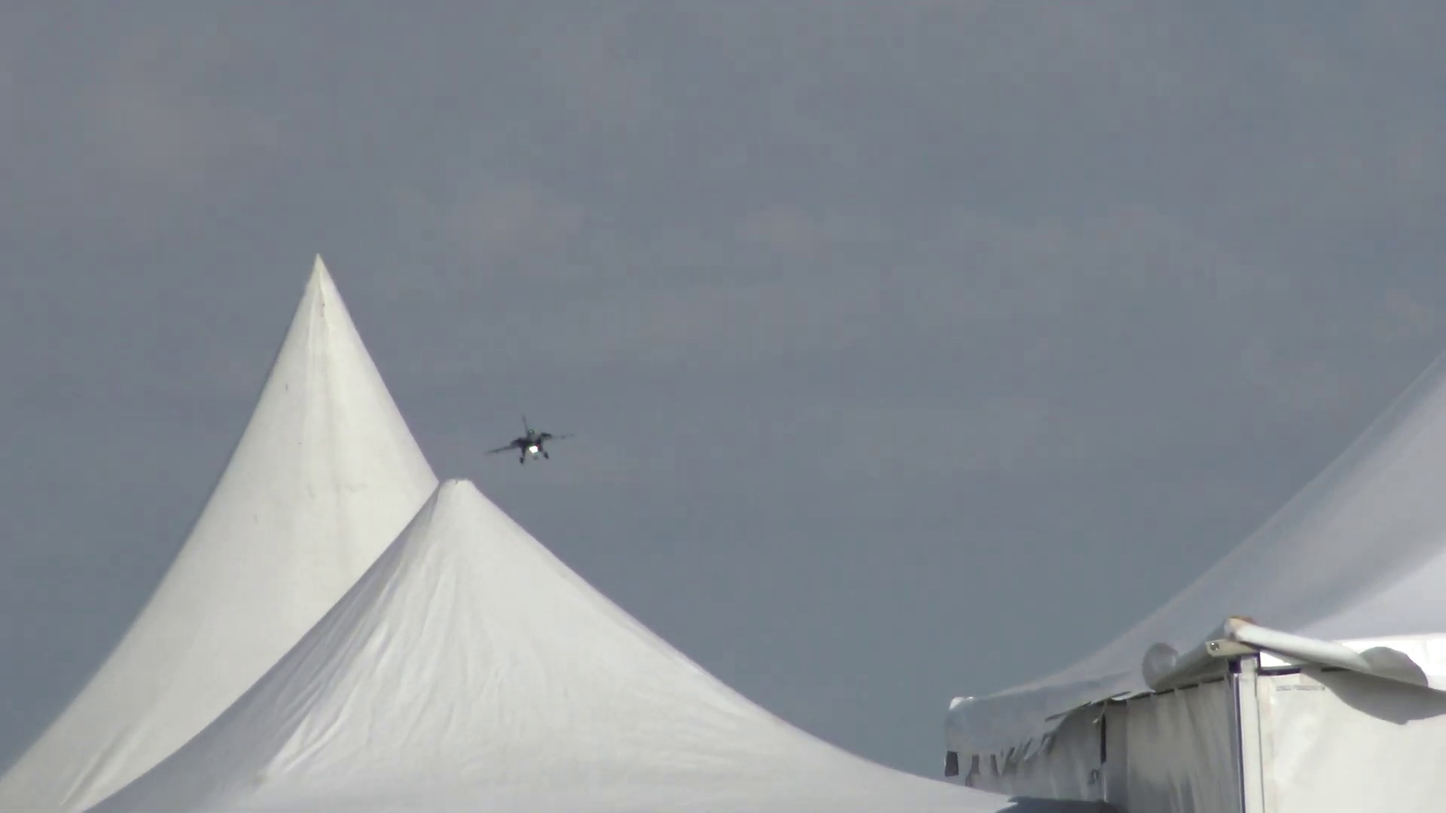Rafale: (483, 412, 575, 466)
